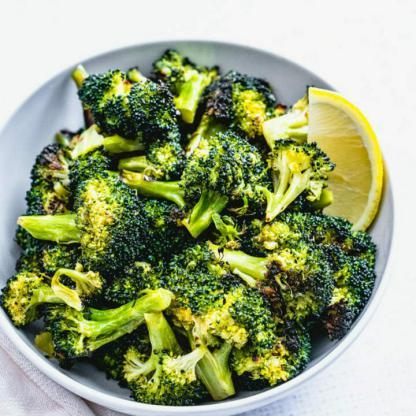broccoli: (0, 45, 383, 407)
